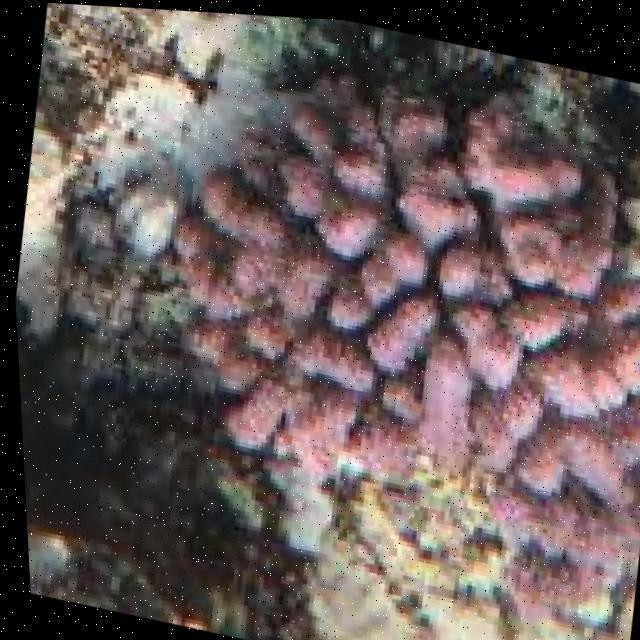Healthy Coral: (119, 28, 640, 549)
